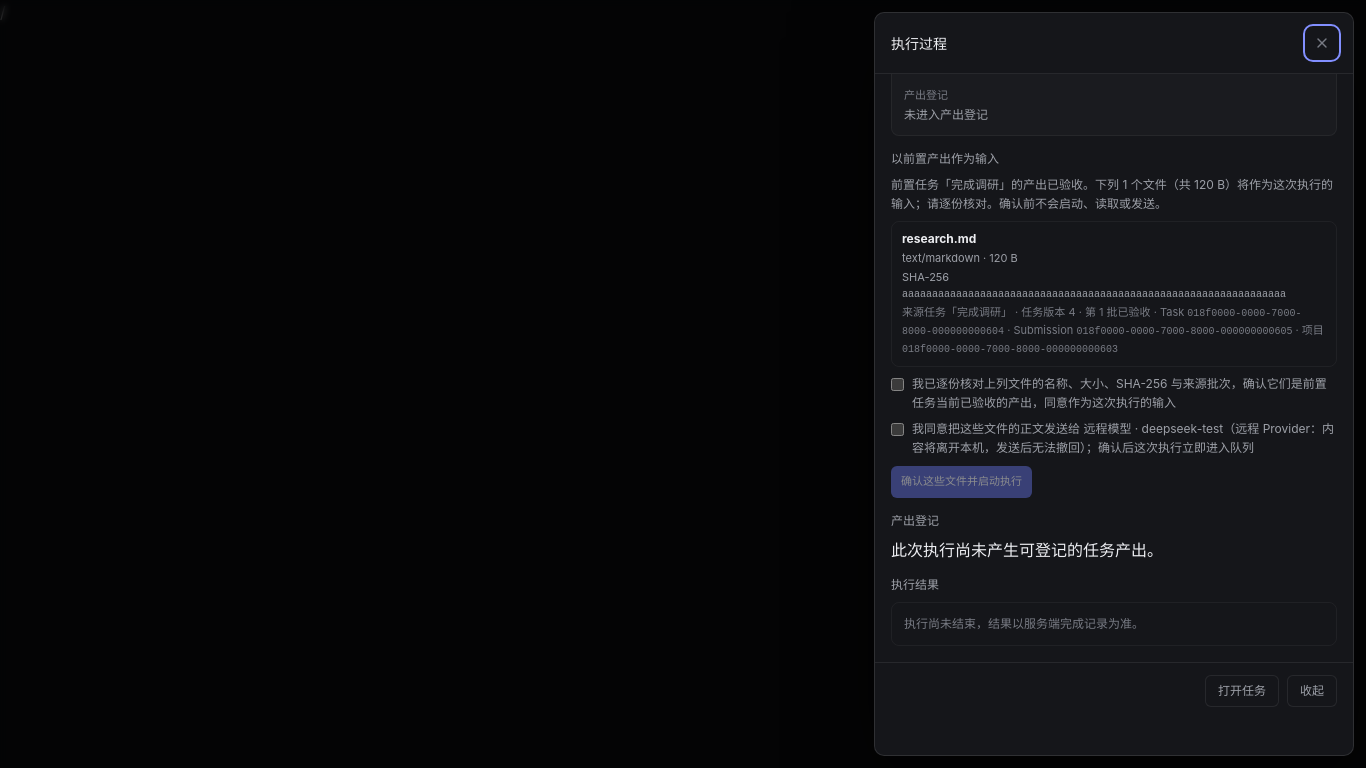
Test: AgentRunDrawer › asks for the predecessor's files in the drawer and follows the Run once confirmed
(page scrolled)
Expected: the list named "前置产出文件" shows "research.md", [902,231,976,246]
Expected: the button "确认这些文件并启动执行" is disabled, [891,466,1032,498]
Click the checkbox labelled "我已逐份核对上列文件的名称、大小、SHA-256 与来源批次，确认它们是前置任务当前已验收的产出，同意作为这次执行的输入". click: (898, 385)
box: [891,378,904,391]
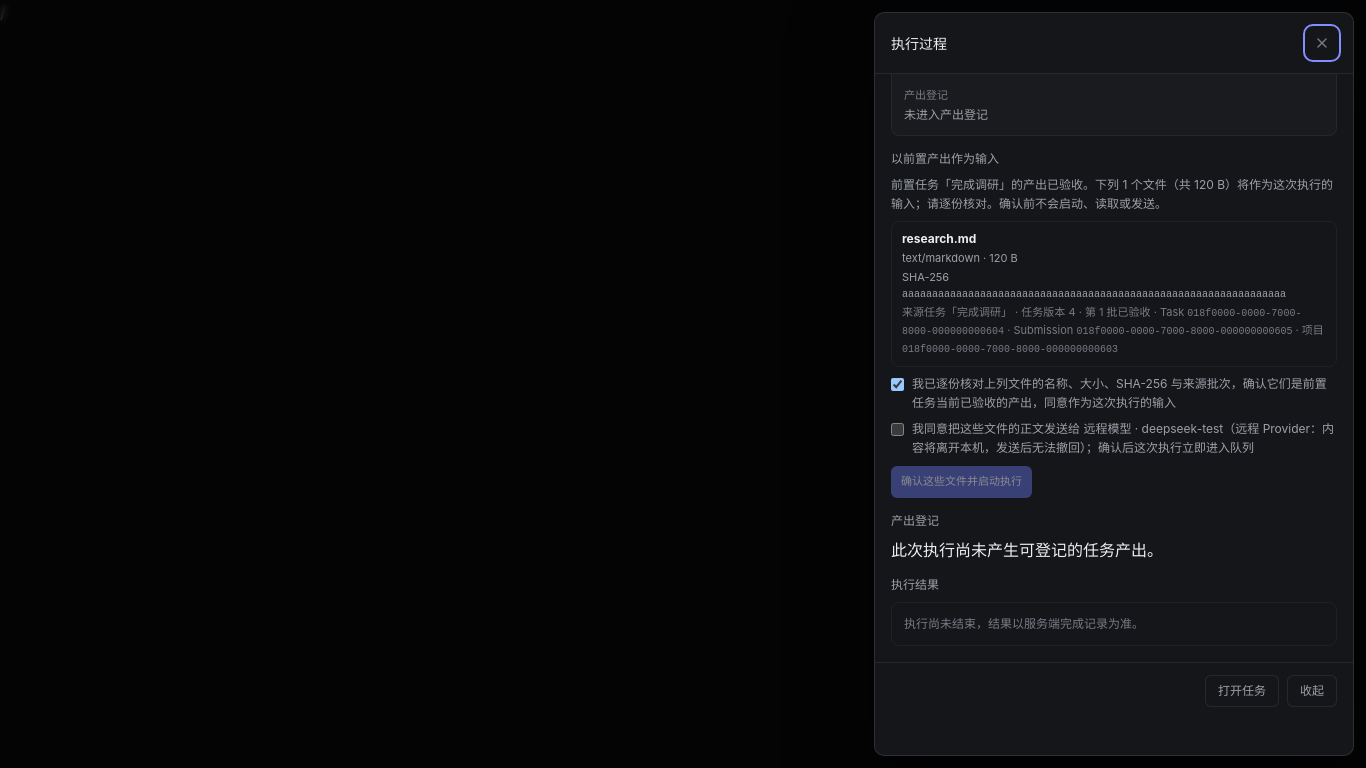
Click the checkbox labelled "我同意把这些文件的正文发送给". click: (898, 430)
box: [891,424,904,436]
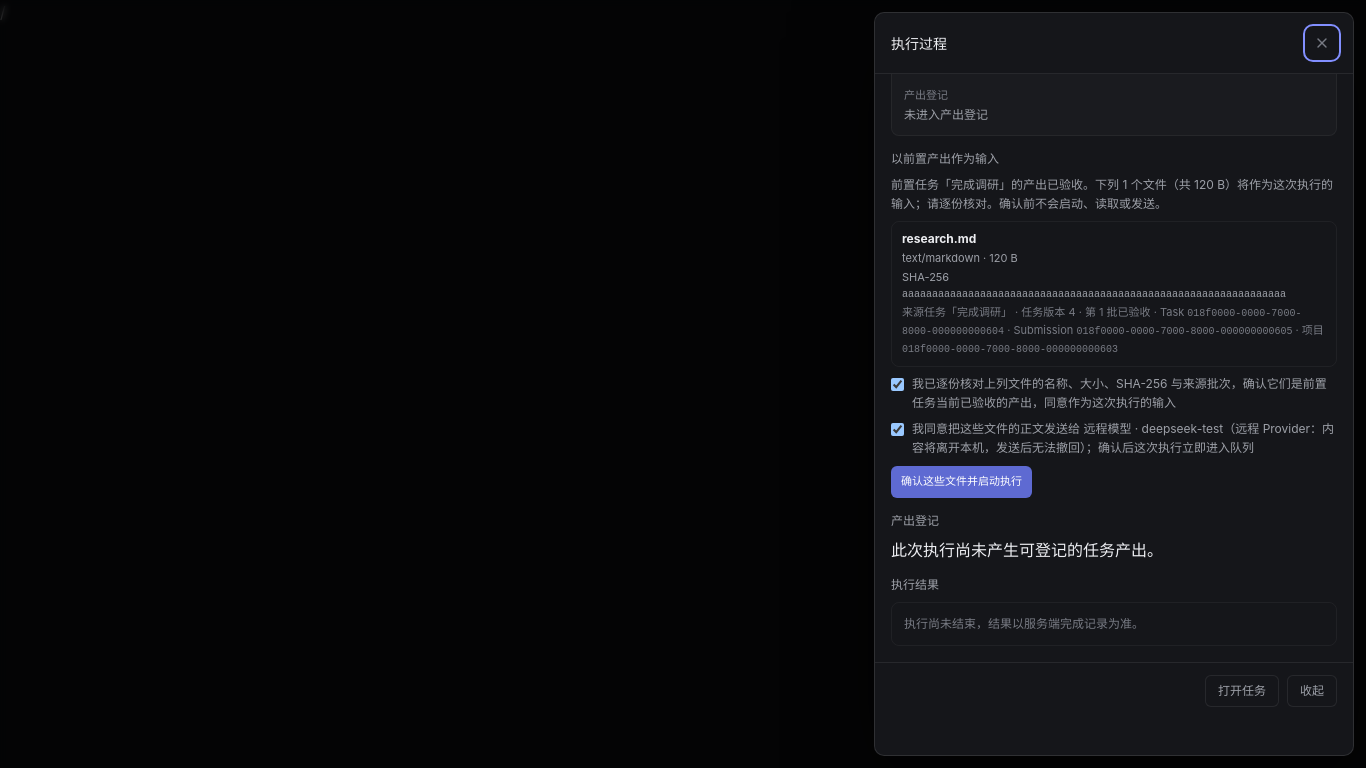
Click the button "确认这些文件并启动执行". click: (962, 482)
box: [891,466,1032,498]
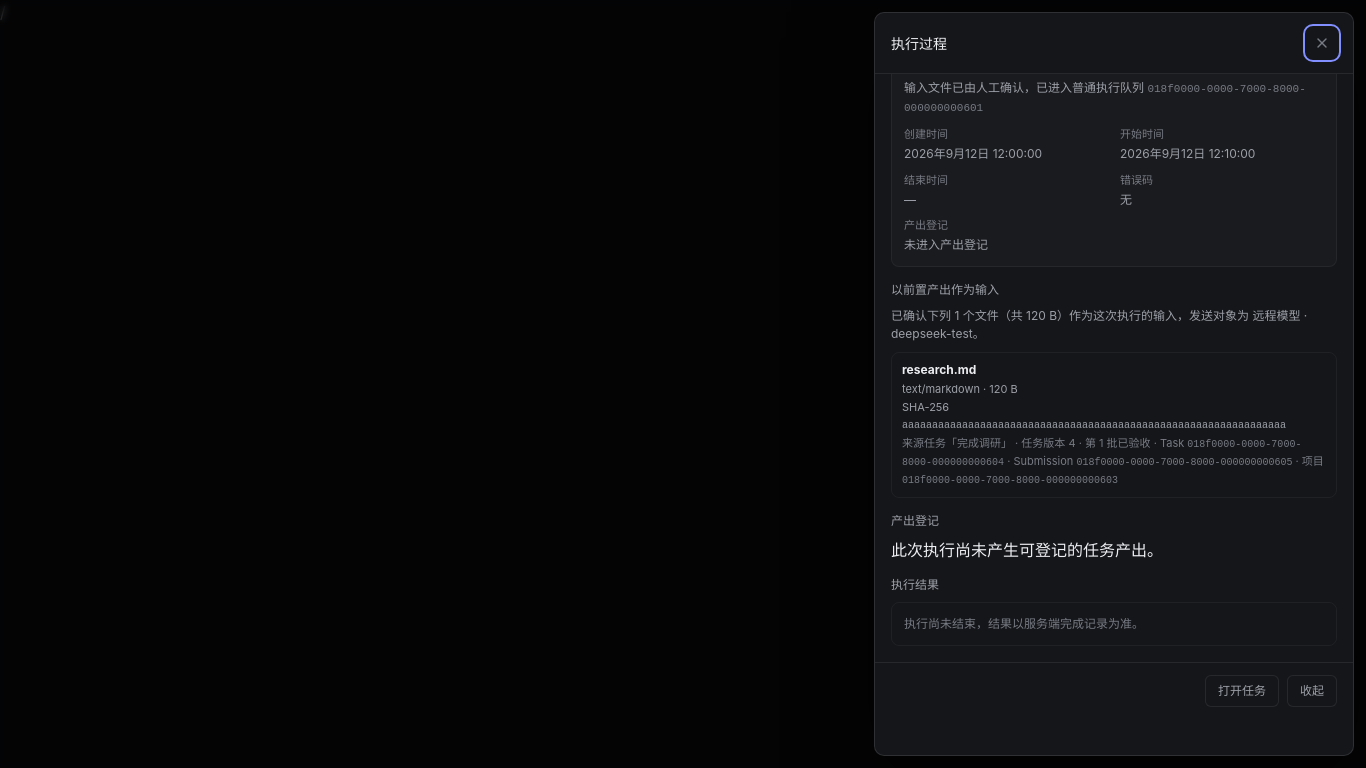
Expected: the text "输入文件已由人工确认，已进入普通执行队列 018f0000-0000-7000-8000-000000000601" is shown, [904,80,1324,117]
Expected: the element named "前置产出输入" shows "已确认下列 1 个文件", [891,281,1337,498]
Expected: the button "确认这些文件并启动执行" is gone
